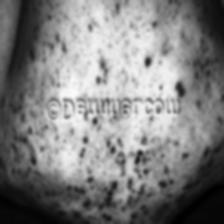Non-Cancerous Skin Condition: (11, 0, 224, 92), (24, 121, 224, 174), (80, 185, 154, 224)
